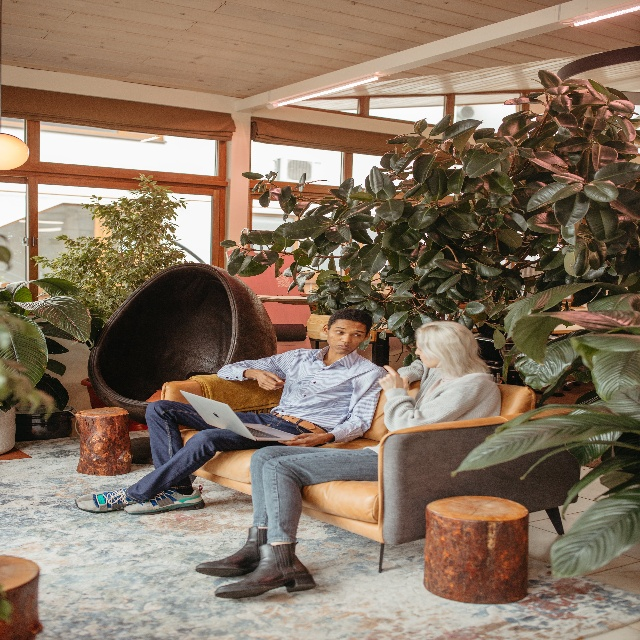Sin_guantes: (378, 365, 408, 391), (257, 369, 286, 391), (278, 432, 318, 447)
